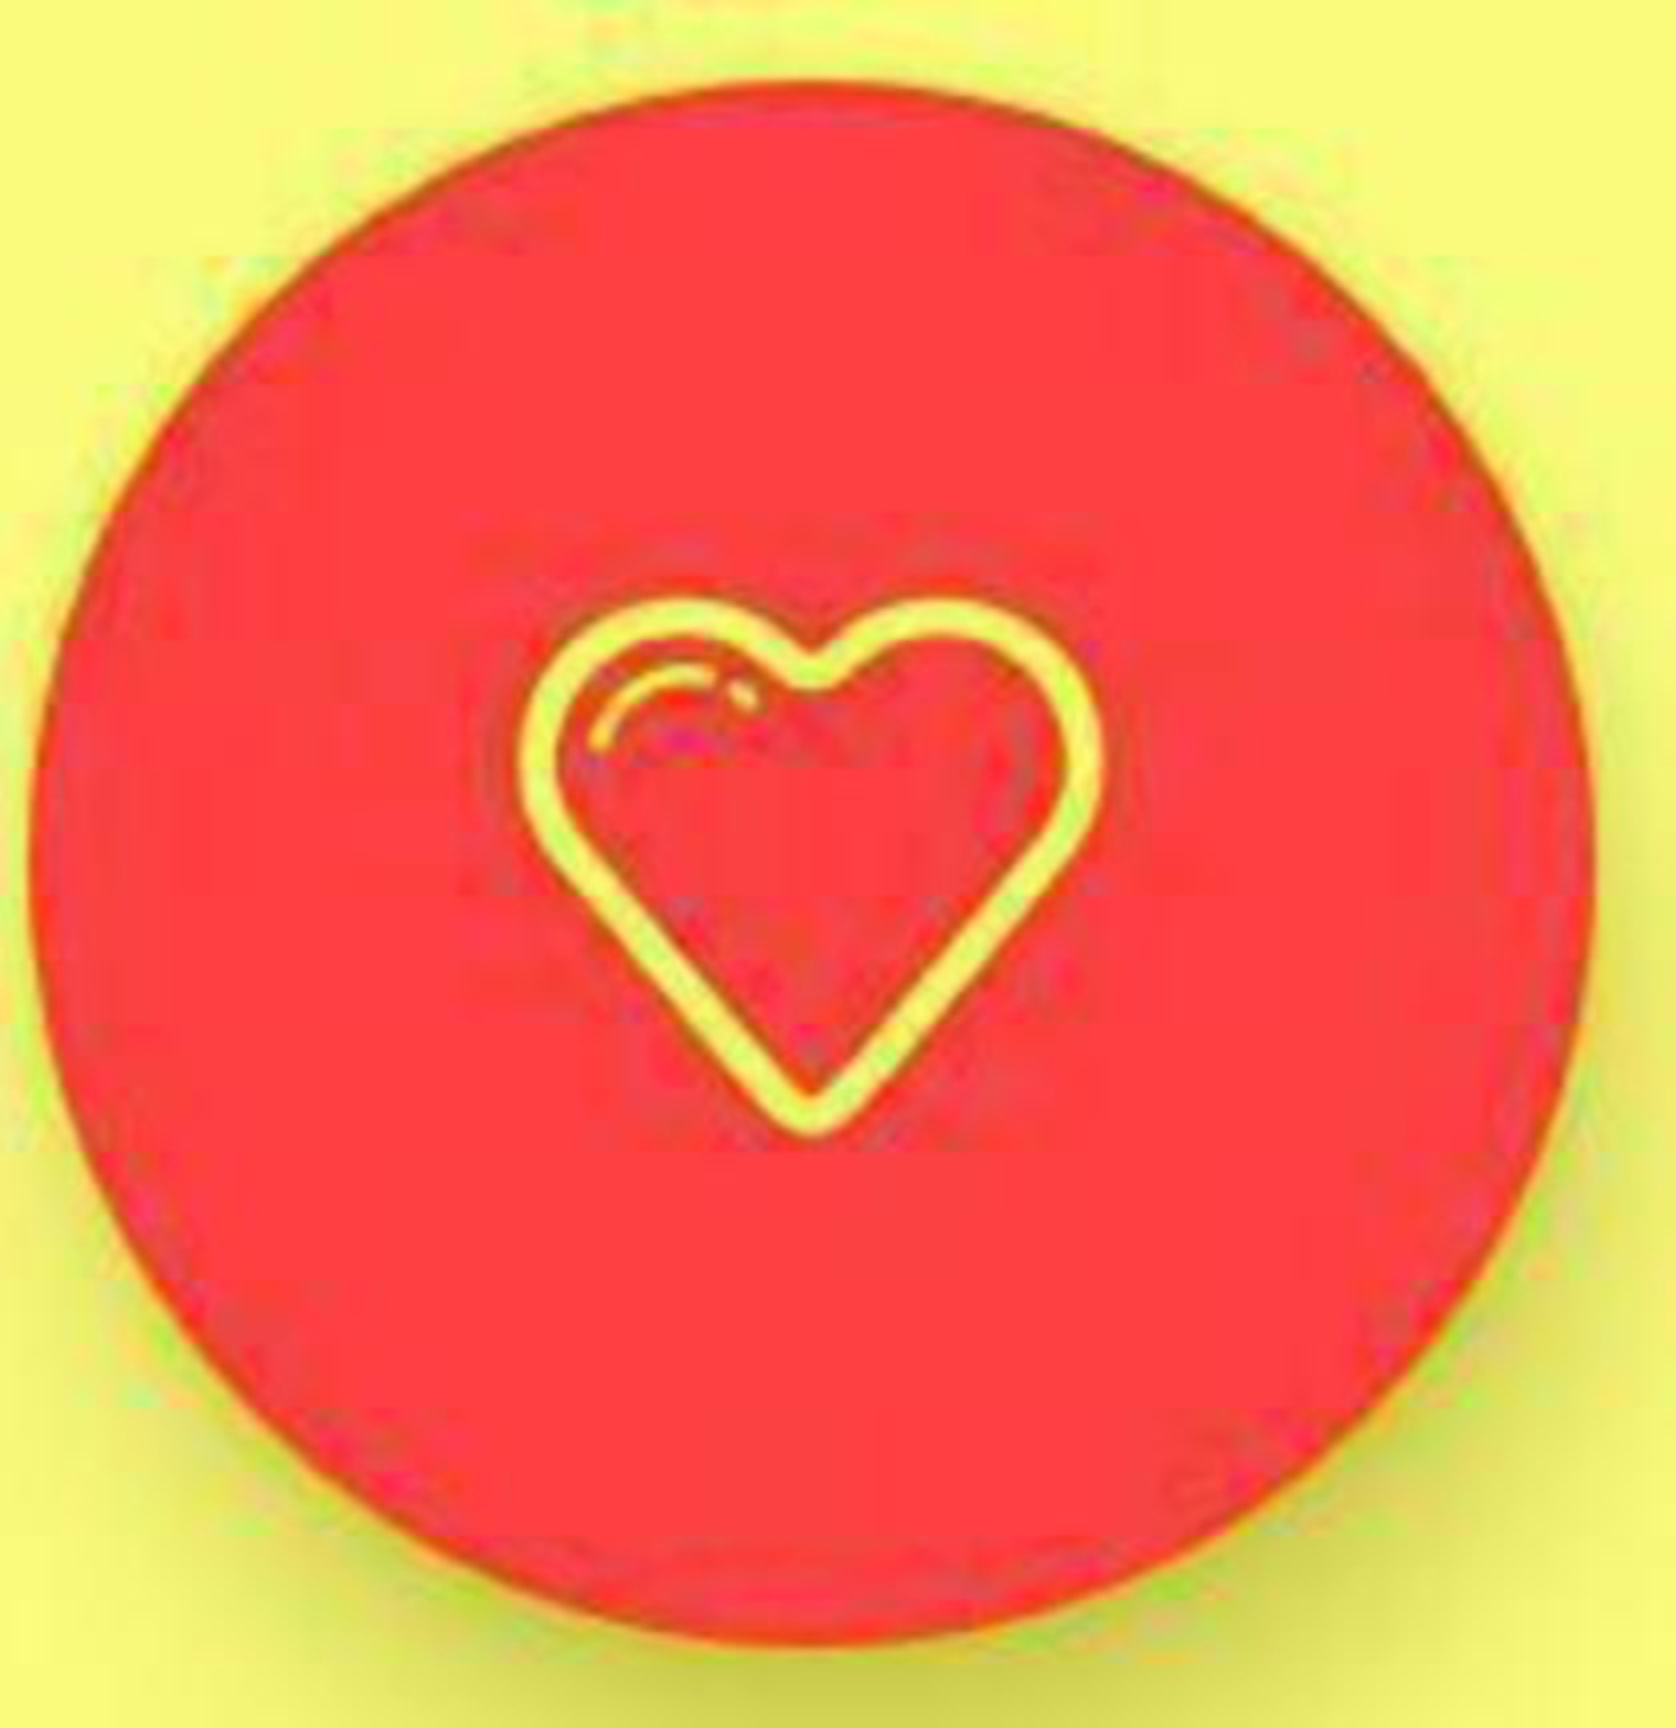ImgButton: (2, 2, 1674, 1726)
